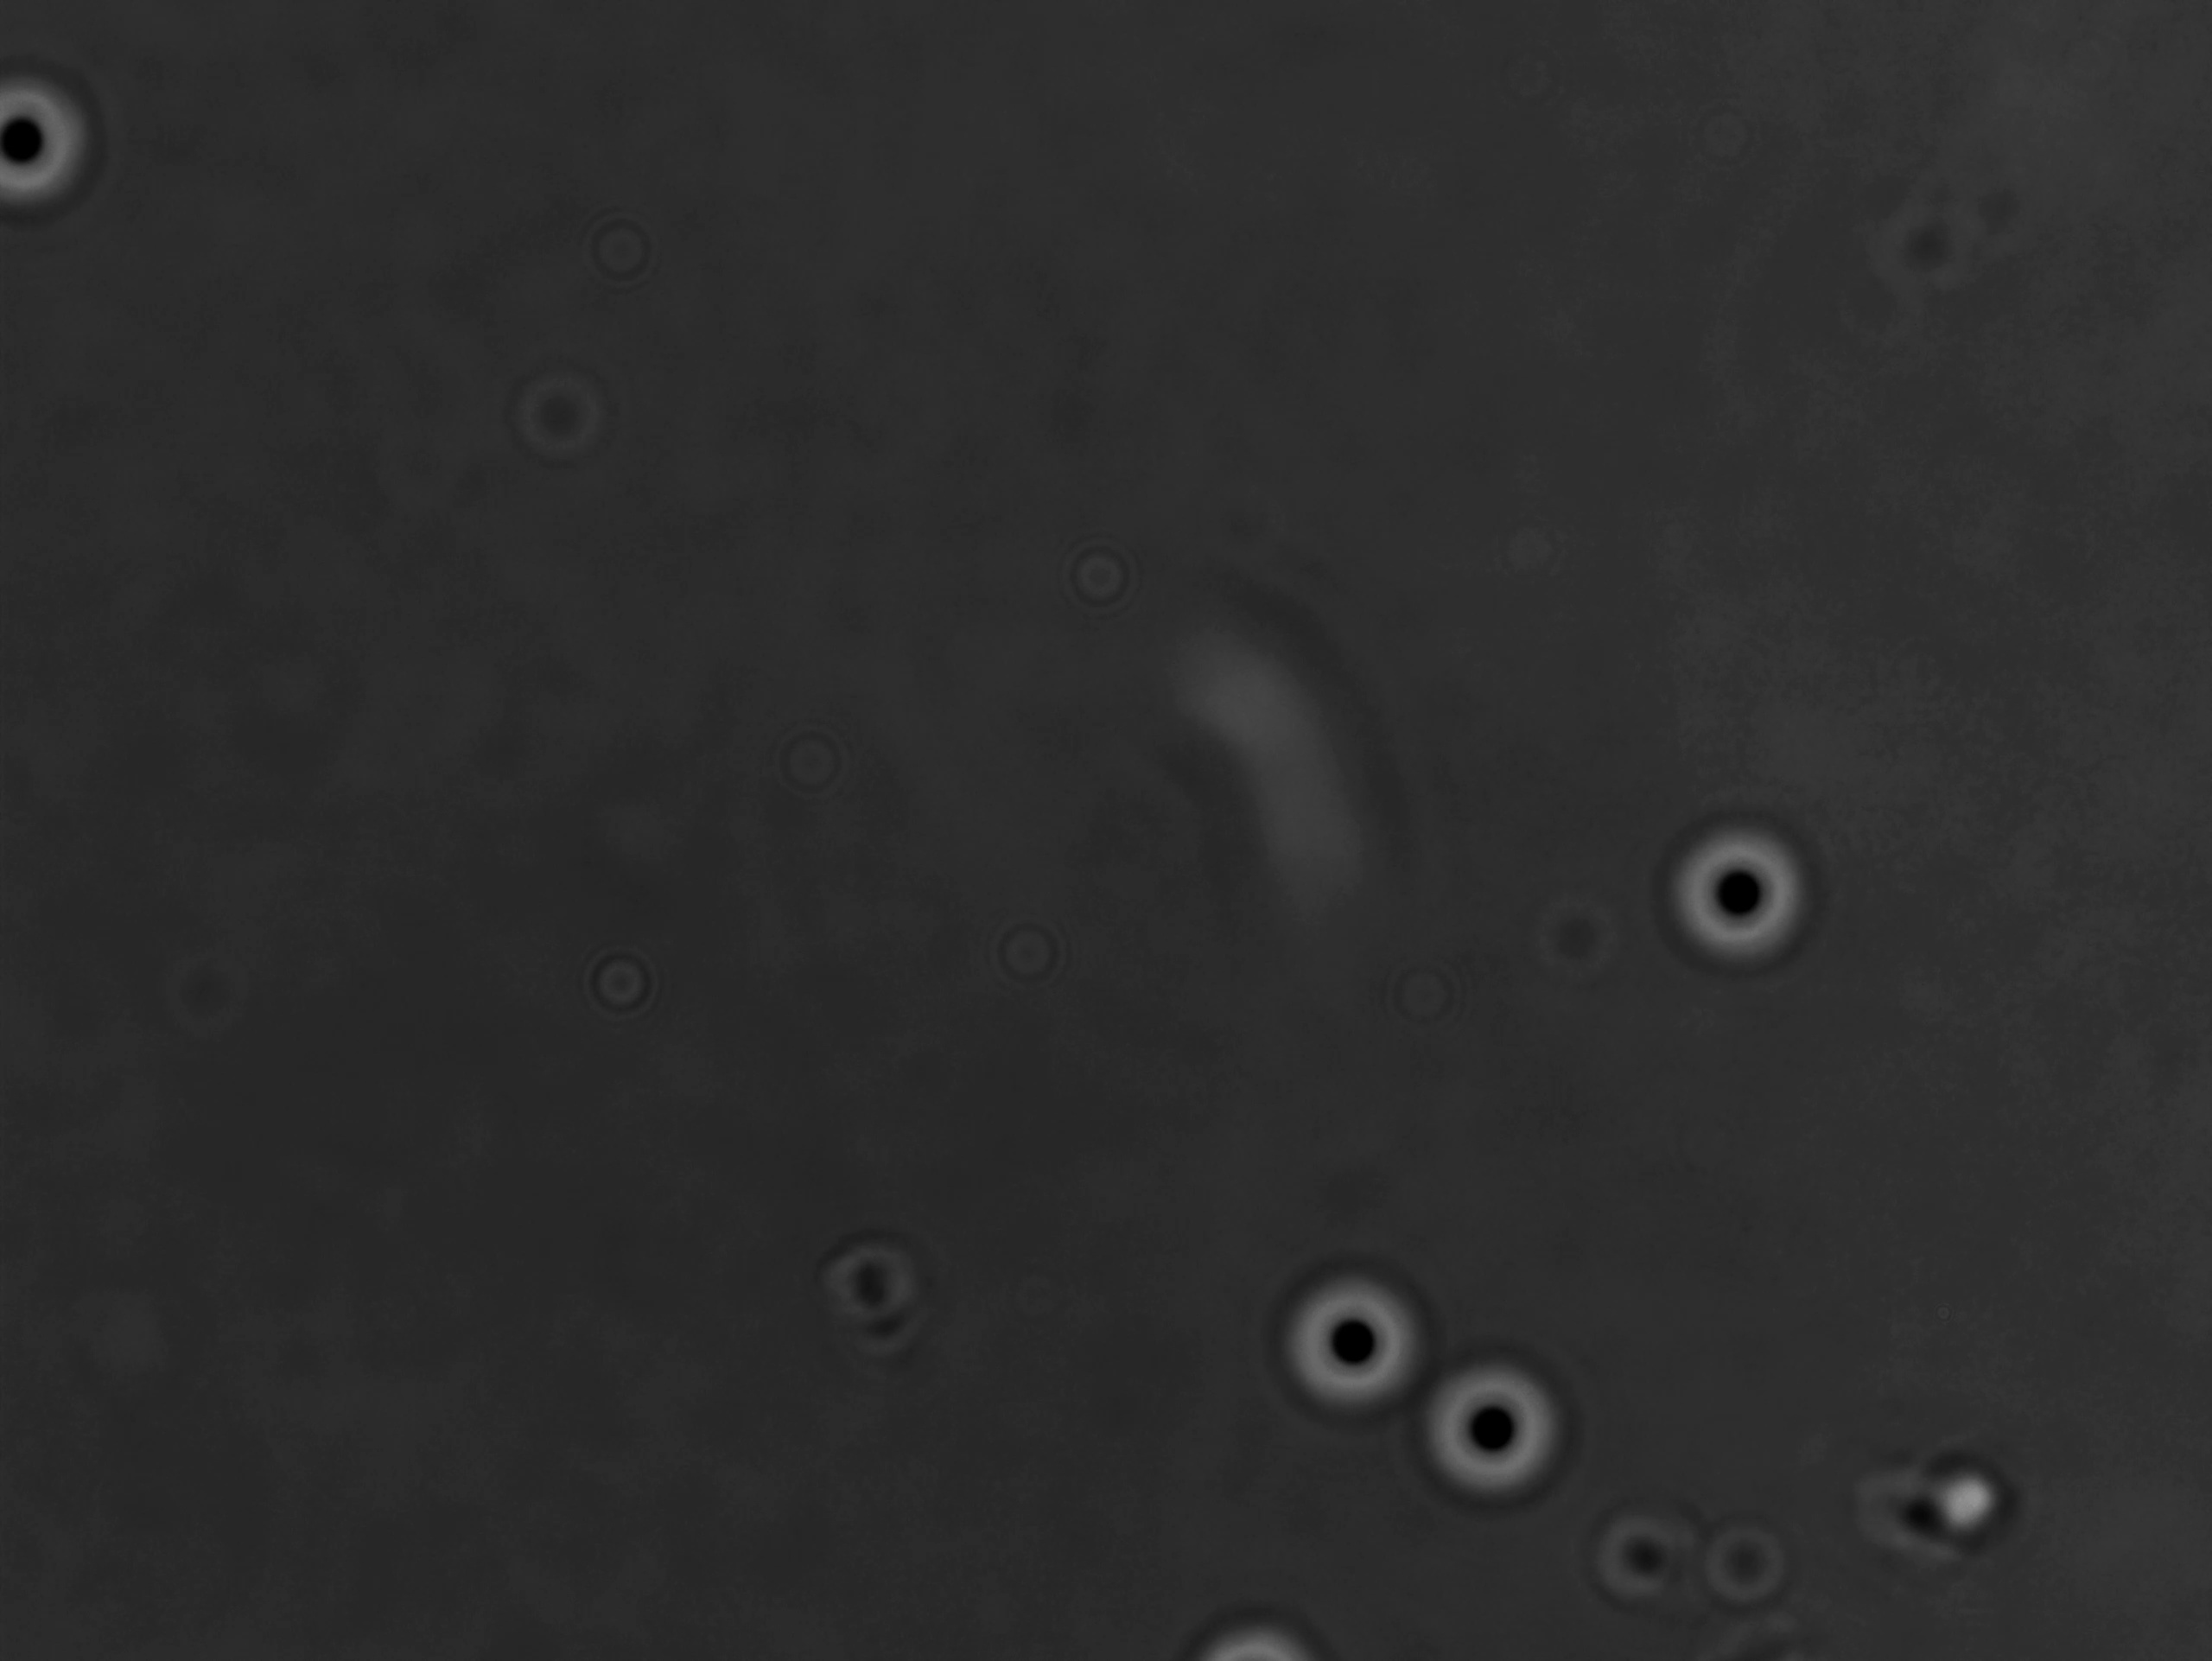depth:-40: (1654, 813, 1823, 979), (1268, 1253, 1432, 1422), (1410, 1361, 1579, 1525)
